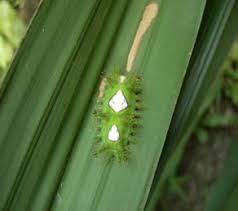Pest! (nettle_caterpillar): (89, 60, 146, 165)
